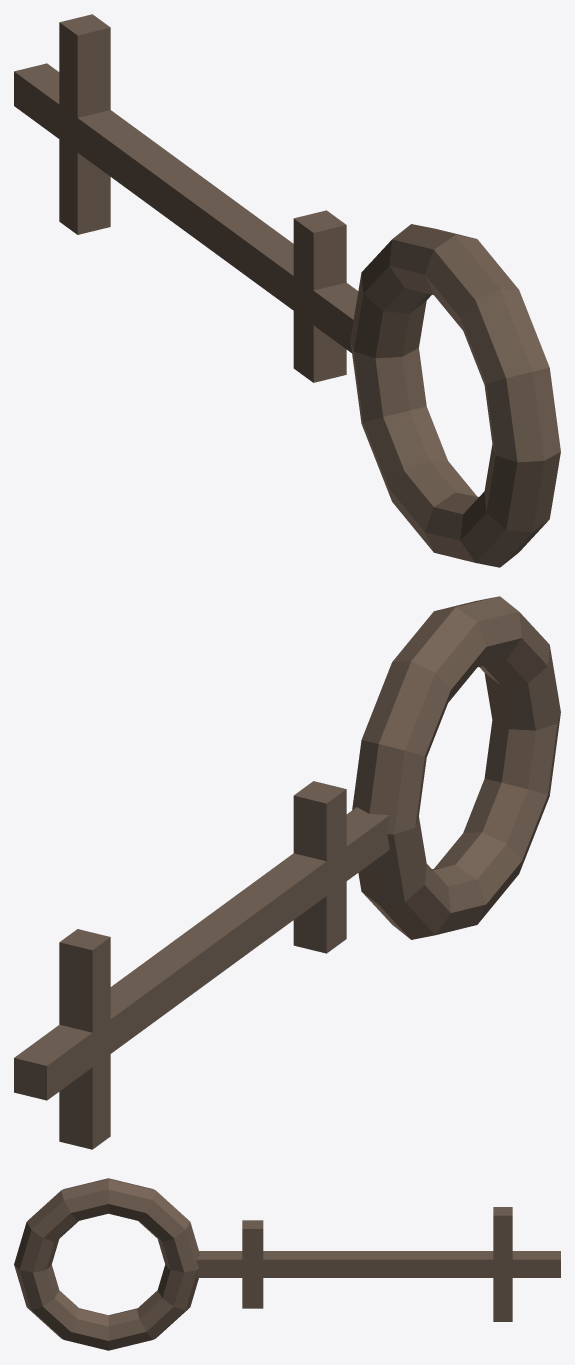
Rendered from keyMiddle.fbx.
3 views of the same model, one above another, from view 1: azimuth 30°, elevation 25°; view 2: azimuth 150°, elevation 25°; view 3: azimuth 270°, elevation 25° (orthographic). The views are drawn at different scales.
Visible parts, largest first — view 1: Key Middle; view 2: Key Middle; view 3: Key Middle.
Part boxes in pixels (box(x1,y1,x2,y2)): Key Middle: box(14, 14, 560, 567); Key Middle: box(14, 596, 560, 1149); Key Middle: box(14, 1178, 560, 1350).
Bounding box in the file's own units: 1.56 × 7.81 × 22.61.
